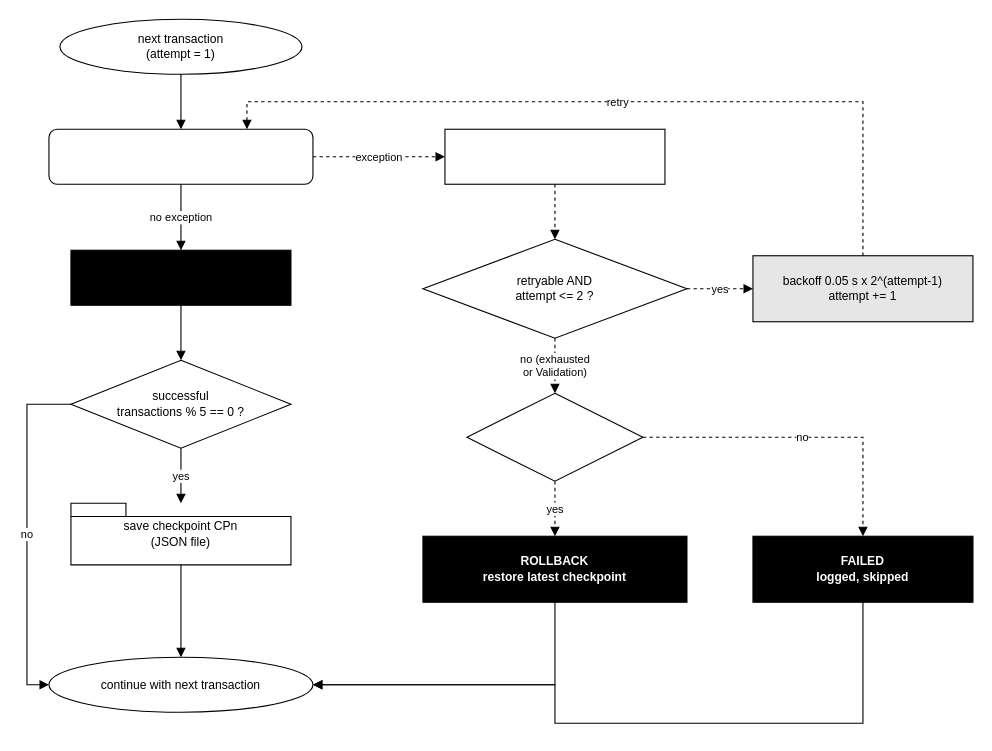
Image size: 992x751. Some labels were removed from this diagram. The shapes that lost their labels are listed below. From the top down, each one's centre as x and y in pixels, then its label:
At (x=180, y=156): "attempt: Validate -> Process -> Record".
At (x=554, y=156): "classify by failureType".
At (x=180, y=277): "SUCCESS ledger updated".
At (x=554, y=436): "Database ?".
